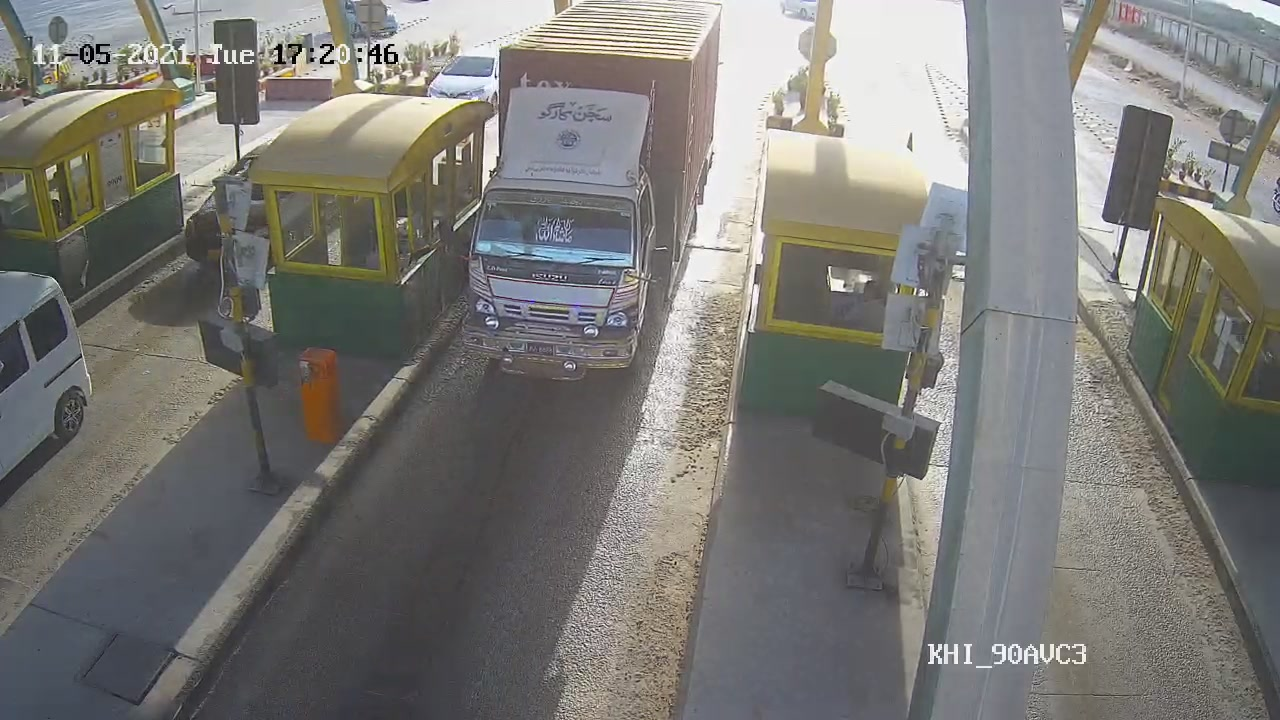F6: (457, 5, 731, 379)
